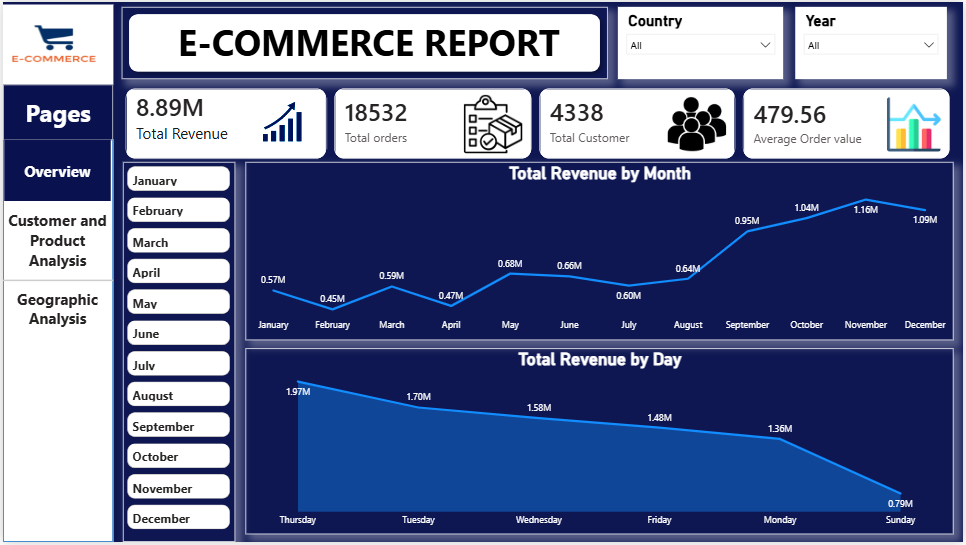

What the dashboard file says about the page in this screenshot:
{"tool":"powerbi","page":{"name":"Overview","canvas":[1280,720],"ordinal":0},"visuals":[{"type":"image","box":[0,2.7,146.8,107],"z":0},{"type":"shape","box":[157.8,6.9,647.7,96.1],"z":1000},{"type":"advancedSlicerVisual","fields":{"Values":["Custome Calender 1.Date.Variation.Date Hierarchy.Month"]},"box":[160.5,214.1,149.6,506.3],"z":2000},{"type":"textbox","box":[229.2,15.1,564,82.3],"z":3000},{"type":"slicer","fields":{"Values":["Cleaned E-Commerse Data.Country"]},"box":[820,7.1,220,95.7],"z":4000},{"type":"slicer","fields":{"Values":["Custome Calender 1.Date.Variation.Date Hierarchy.Year"]},"box":[1057.1,7.1,201.4,95.7],"z":5000},{"type":"cardVisual","fields":{"Data":["Cleaned E-Commerse Data.Total Revenue"]},"box":[157.8,109.8,278.6,104.3],"z":6000},{"type":"cardVisual","fields":{"Data":["Cleaned E-Commerse Data.Total orders"]},"box":[436.4,109.8,273.1,104.3],"z":7000},{"type":"cardVisual","fields":{"Data":["Cleaned E-Commerse Data.Total Customer"]},"box":[709.4,109.8,271.7,104.3],"z":8000},{"type":"cardVisual","fields":{"Data":["Cleaned E-Commerse Data.Average Order value"]},"box":[981.1,109.8,286.8,104.3],"z":9000},{"type":"lineChart","fields":{"Category":["Custome Calender 1.Date.Variation.Date Hierarchy.Month"],"Y":["Cleaned E-Commerse Data.Total Revenue"]},"box":[323.8,214.1,944.1,237.4],"z":10000},{"type":"areaChart","fields":{"Category":["Custome Calender 1.Day"],"Y":["Cleaned E-Commerse Data.Total Revenue"]},"box":[323.8,461.1,944.1,248.4],"z":11000},{"type":"shape","box":[0,183.4,146.8,536.5],"z":12000},{"type":"shape","box":[0,109.8,146.8,74.1],"z":13000},{"type":"pageNavigator","box":[1.4,182.5,142.7,269],"z":14000},{"type":"shape","box":[0,365,146.8,12.3],"z":15000}]}

Visuals, with their boxes in screenshot pixels (x1, y1, x2, y2), scaled from the page's 1280x720 canvas onto the 966x545 screenshot:
image: left=0, top=2, right=111, bottom=83
shape: left=119, top=5, right=608, bottom=78
advancedSlicerVisual - Custome Calender 1.Date.Variation.Date Hierarchy.Month: left=121, top=162, right=234, bottom=544
textbox: left=173, top=11, right=599, bottom=74
slicer - Cleaned E-Commerse Data.Country: left=619, top=5, right=785, bottom=78
slicer - Custome Calender 1.Date.Variation.Date Hierarchy.Year: left=798, top=5, right=950, bottom=78
cardVisual - Cleaned E-Commerse Data.Total Revenue: left=119, top=83, right=329, bottom=162
cardVisual - Cleaned E-Commerse Data.Total orders: left=329, top=83, right=535, bottom=162
cardVisual - Cleaned E-Commerse Data.Total Customer: left=535, top=83, right=740, bottom=162
cardVisual - Cleaned E-Commerse Data.Average Order value: left=740, top=83, right=957, bottom=162
lineChart - Custome Calender 1.Date.Variation.Date Hierarchy.Month x Cleaned E-Commerse Data.Total Revenue: left=244, top=162, right=957, bottom=342
areaChart - Custome Calender 1.Day x Cleaned E-Commerse Data.Total Revenue: left=244, top=349, right=957, bottom=537
shape: left=0, top=139, right=111, bottom=544
shape: left=0, top=83, right=111, bottom=139
pageNavigator: left=1, top=138, right=109, bottom=342
shape: left=0, top=276, right=111, bottom=286
